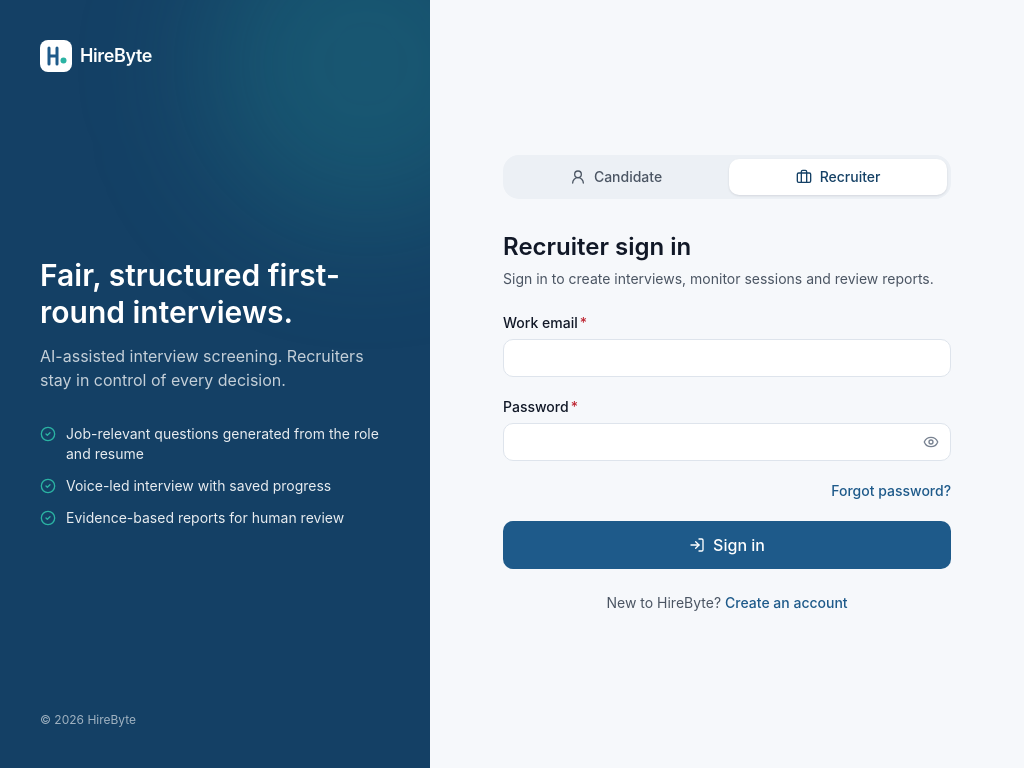
RecruiterLoginPage › shows the rate-limited state
The image size is (1024, 768).
Type "someone@example.test" into the field labelled "Work email*" at (727,358), box [503,339,951,377]
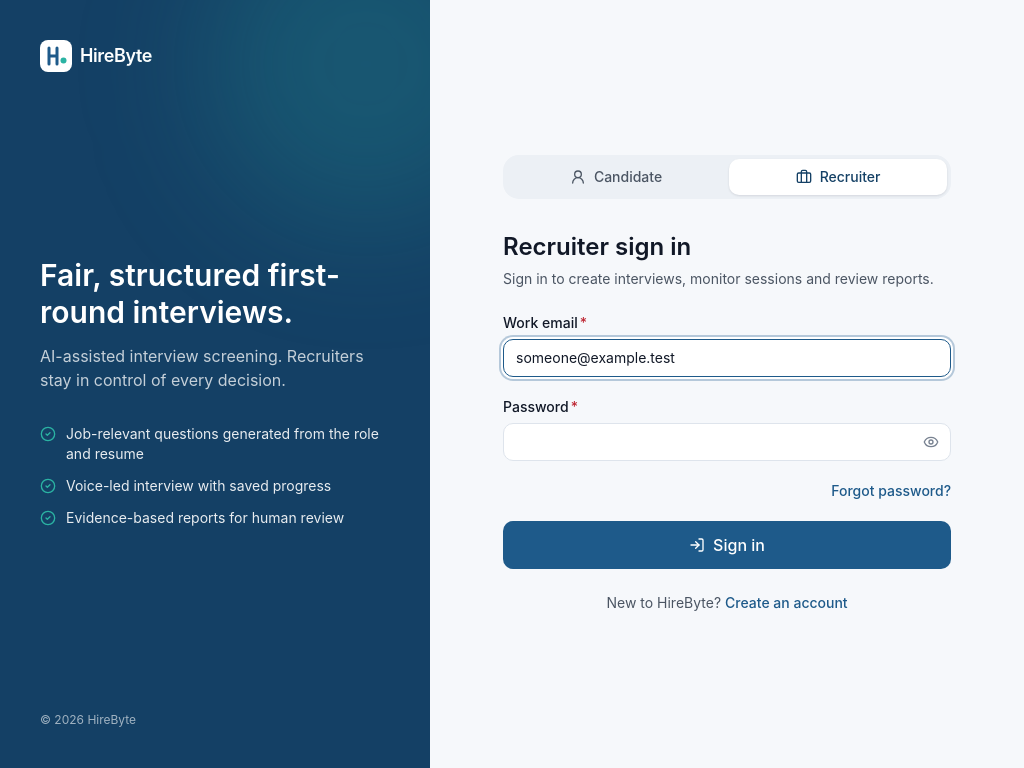
Type "pw" into the password field labelled "Password*" at (727,442), box [503,423,951,461]
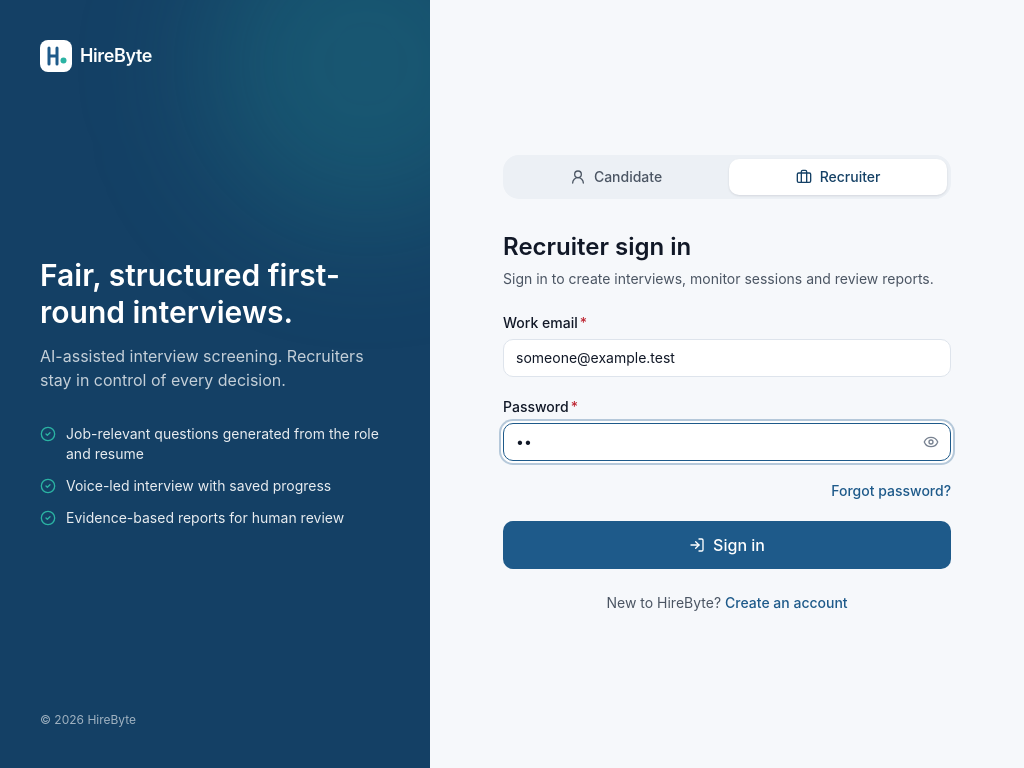
Click the button "Sign in" at (727,545), box [503,521,951,569]
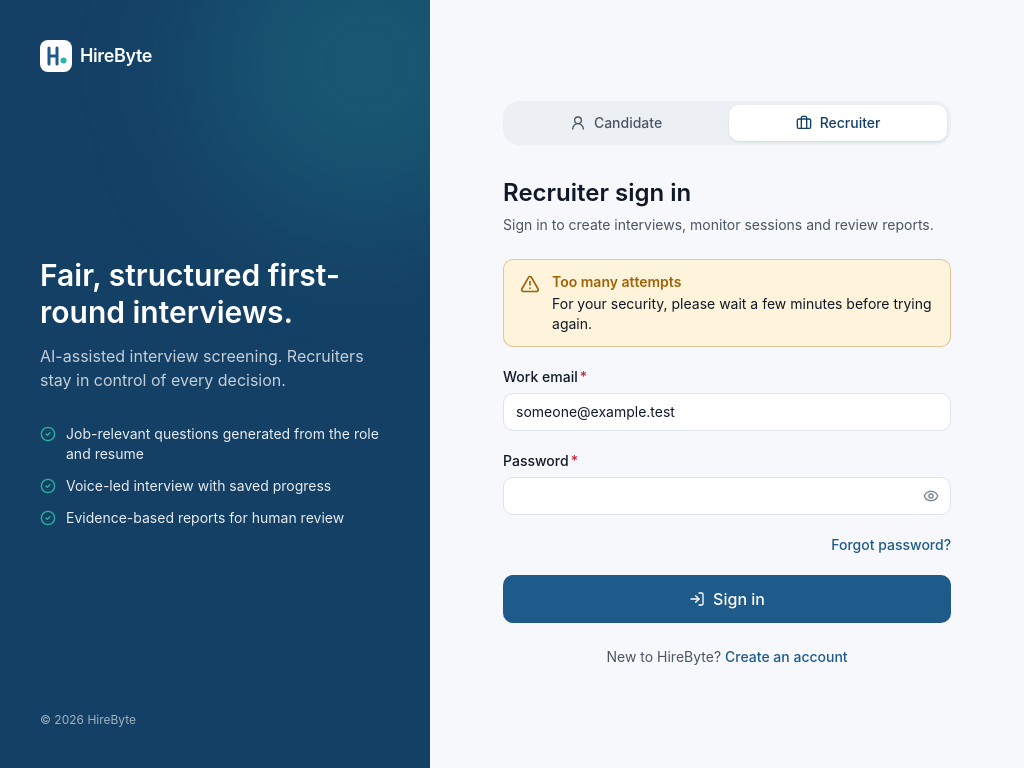
Now the text "Too many attempts" is shown, box [552,273,681,290]
